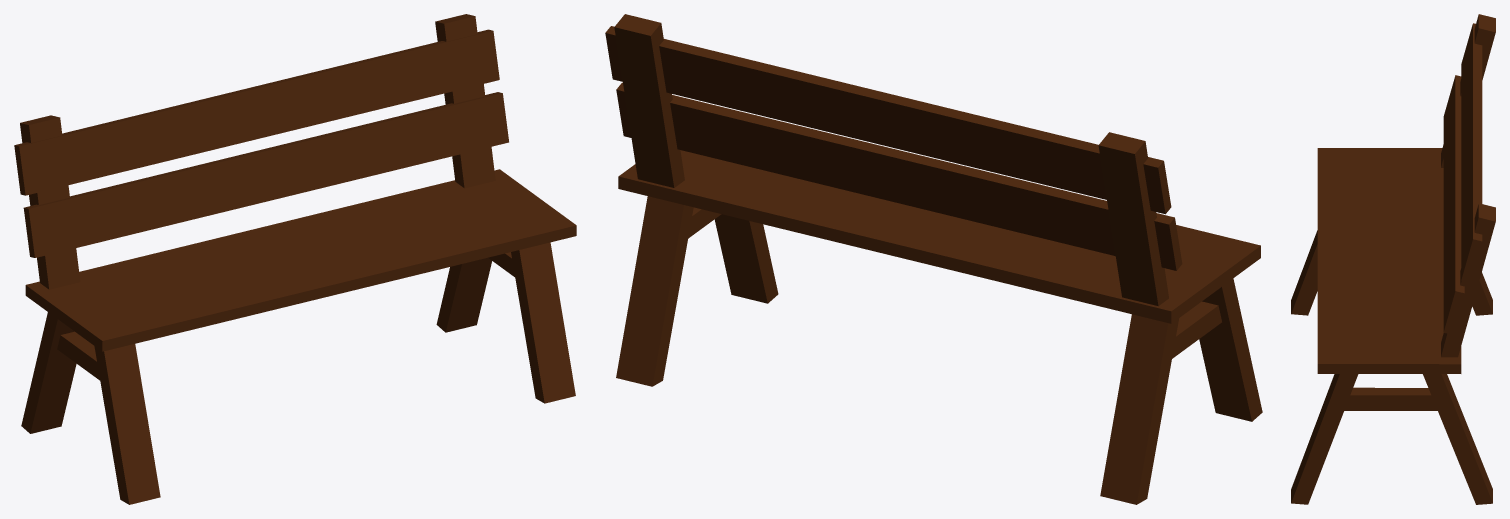
The model's file is pl_bench.FBX.
3 views of the same model, side by side, from view 1: azimuth 30°, elevation 25°; view 2: azimuth 150°, elevation 25°; view 3: azimuth 270°, elevation 25° (orthographic). The views are drawn at different scales.
Parts seen in each view (by area): view 1: Box001; view 2: Box001; view 3: Box001.
Part boxes in pixels (box(x1,y1,x2,y2)): Box001: box(14, 14, 576, 504); Box001: box(605, 14, 1262, 504); Box001: box(1291, 14, 1495, 504).
Size of the model in its own units: 48.36 by 30.01 by 19.36.
